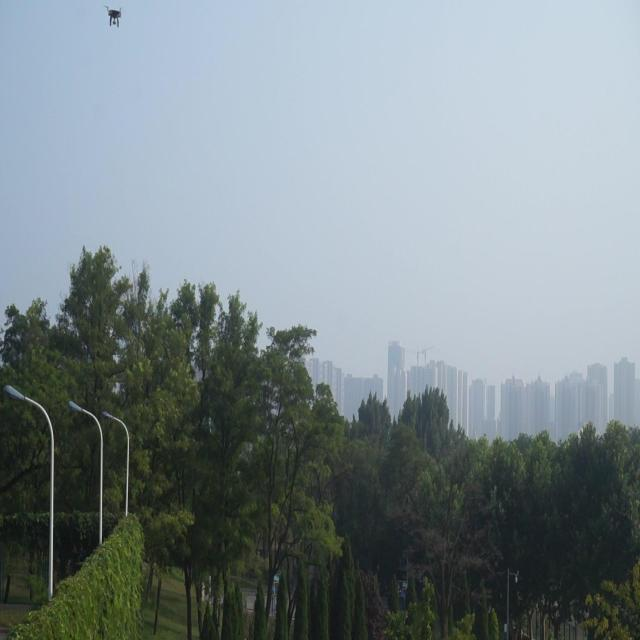drone: (104, 0, 125, 32)
